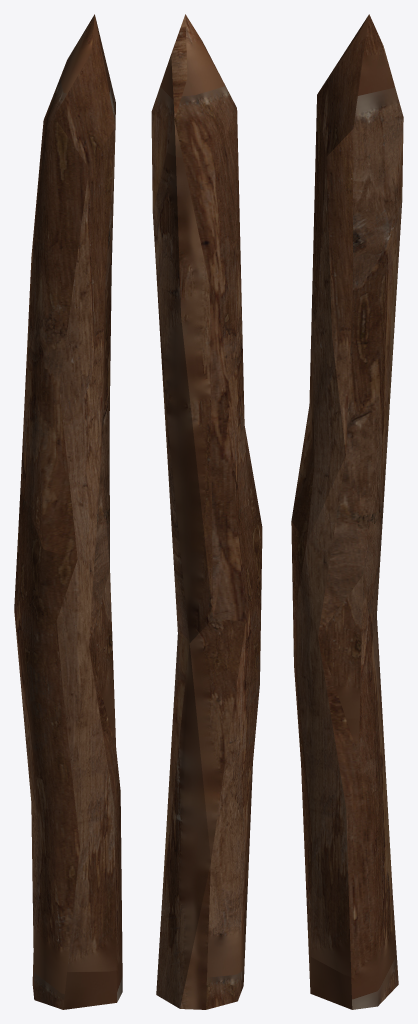
Rendered from SM_CitP3.fbx.
The picture shows the model from 3 angles, left to right: view 1: azimuth 30°, elevation 25°; view 2: azimuth 150°, elevation 25°; view 3: azimuth 330°, elevation 25°; orthographic projection.
Visible parts, largest first — view 1: SM_Cit_3; view 2: SM_Cit_3; view 3: SM_Cit_3.
Boxes of the visible parts, <box> form: SM_Cit_3: <box>14,14,122,1009</box>; SM_Cit_3: <box>151,14,262,1009</box>; SM_Cit_3: <box>291,14,403,1009</box>.
Size of the model in its own units: 14.13 by 134 by 12.16.
